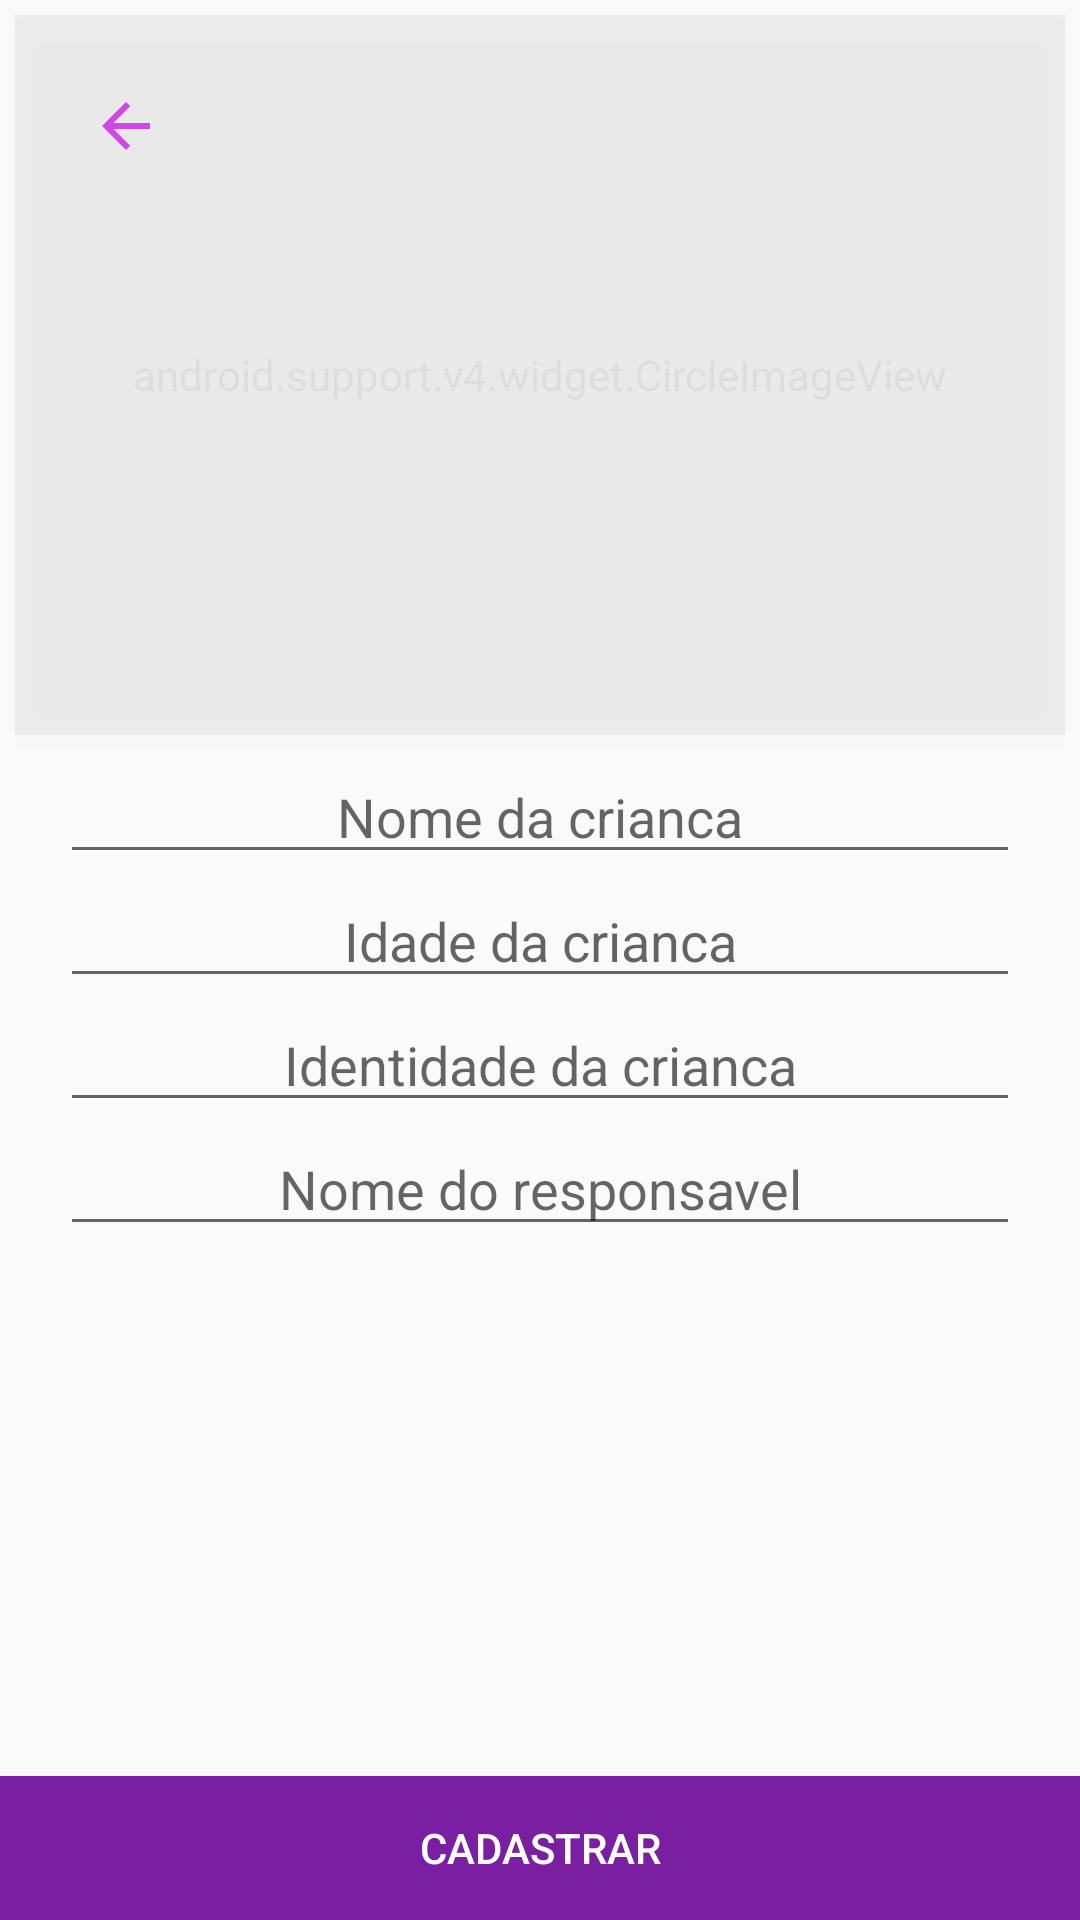

Where icons sit on this 1080 × 1920 app screen, as box(x1, y1, x2, y2):
arrow back: box(102, 102, 150, 150)
